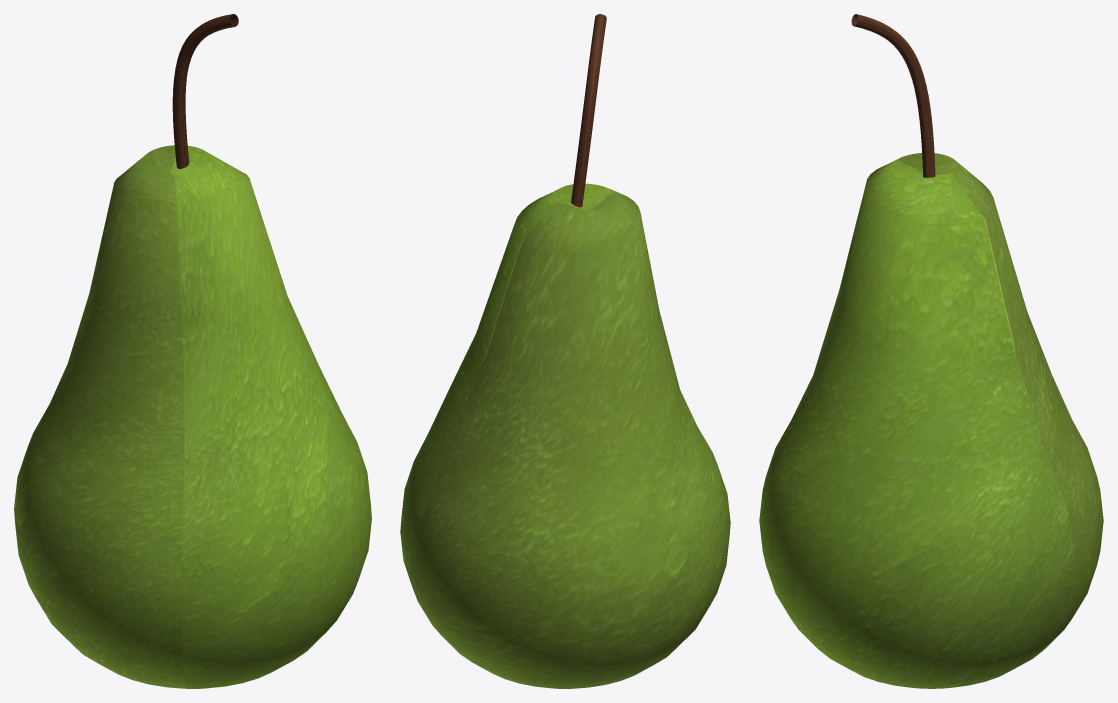
Rendered from alpukat.glb.
The picture shows the model from 3 angles, left to right: view 1: azimuth 30°, elevation 25°; view 2: azimuth 150°, elevation 25°; view 3: azimuth 270°, elevation 25°; orthographic projection. The views are drawn at different scales.
Visible parts, largest first — view 1: Sphere, NurbsPath; view 2: Sphere, NurbsPath; view 3: Sphere, NurbsPath.
Boxes of the visible parts, left/top/right/bottom form: Sphere: left=14, top=145, right=371, bottom=688; NurbsPath: left=172, top=14, right=238, bottom=168; Sphere: left=400, top=183, right=730, bottom=688; NurbsPath: left=571, top=14, right=606, bottom=207; Sphere: left=759, top=153, right=1103, bottom=688; NurbsPath: left=851, top=14, right=935, bottom=177.
Bounding box in the file's own units: 0.2294 × 0.4828 × 0.2294.
Materials: 2 (2 with a texture image).
